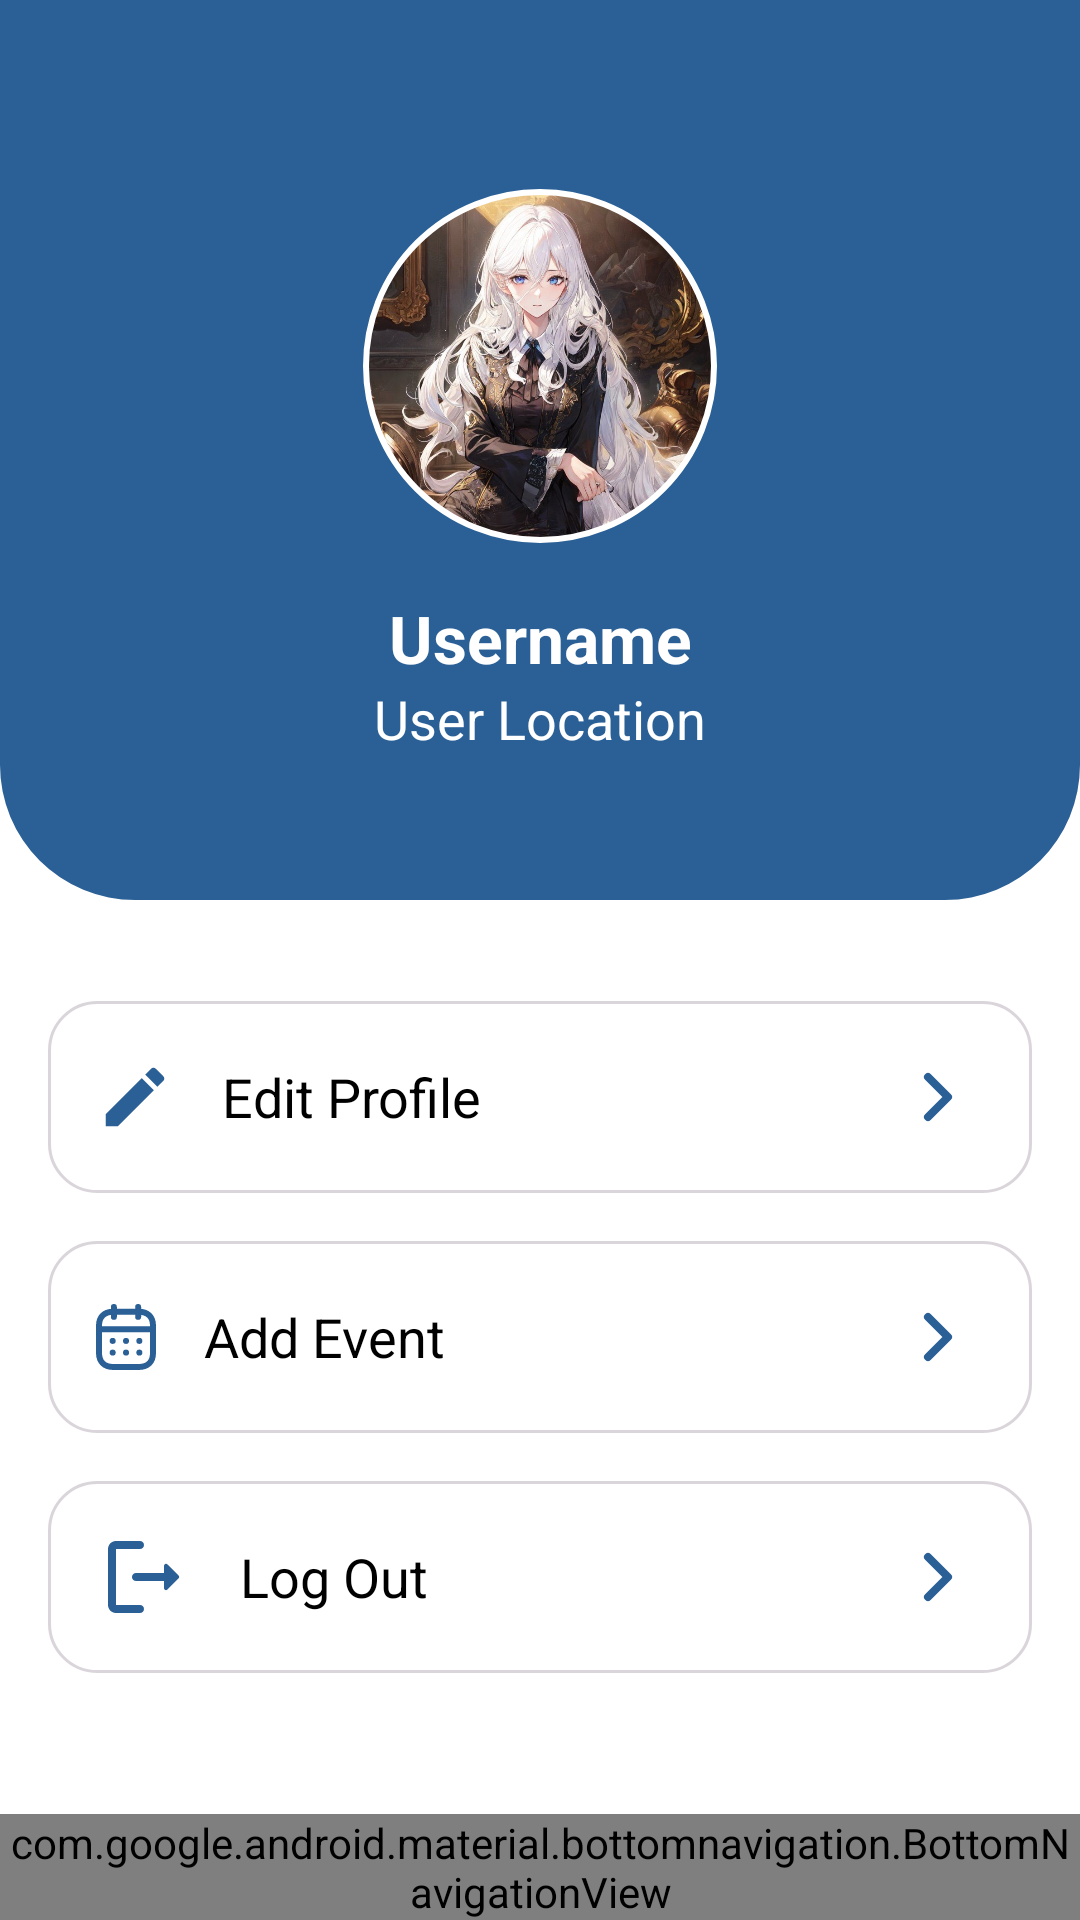

Icon click points for this 1080w x 1920h phone screenshot, format (x=x, y=y):
animepic: (x=540, y=366)
